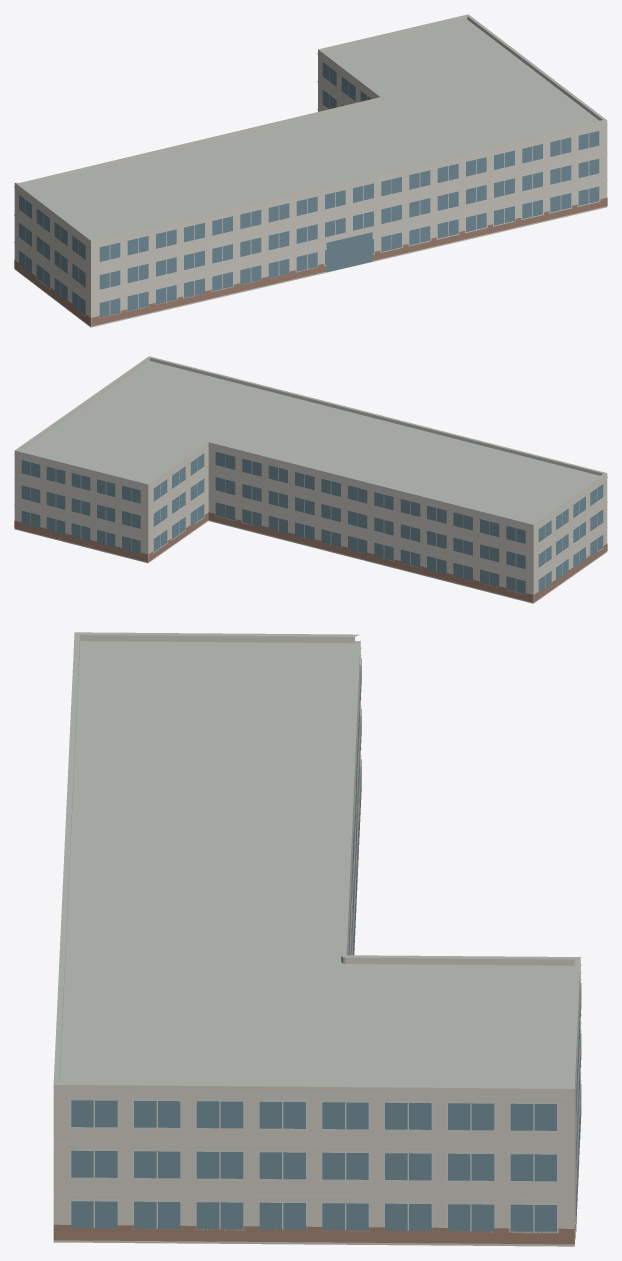
Rendered from public-015feaca-7f60-4ffd-96a2-b9c35ee82265.glb.
The picture shows the model from 3 angles, top to bottom: view 1: azimuth 30°, elevation 25°; view 2: azimuth 150°, elevation 25°; view 3: azimuth 270°, elevation 25°; orthographic projection. The views are drawn at different scales.
Visible parts, largest first — view 1: public-015feaca-7f60-4ffd-96a2-b9c35ee82265; view 2: public-015feaca-7f60-4ffd-96a2-b9c35ee82265; view 3: public-015feaca-7f60-4ffd-96a2-b9c35ee82265.
Boxes of the visible parts, x1,y1,x2,y2 form: public-015feaca-7f60-4ffd-96a2-b9c35ee82265: (14,14,607,327); public-015feaca-7f60-4ffd-96a2-b9c35ee82265: (14,356,607,603); public-015feaca-7f60-4ffd-96a2-b9c35ee82265: (53,632,581,1246).
Bounding box in the file's own units: 56.95 × 9.15 × 28.48.
